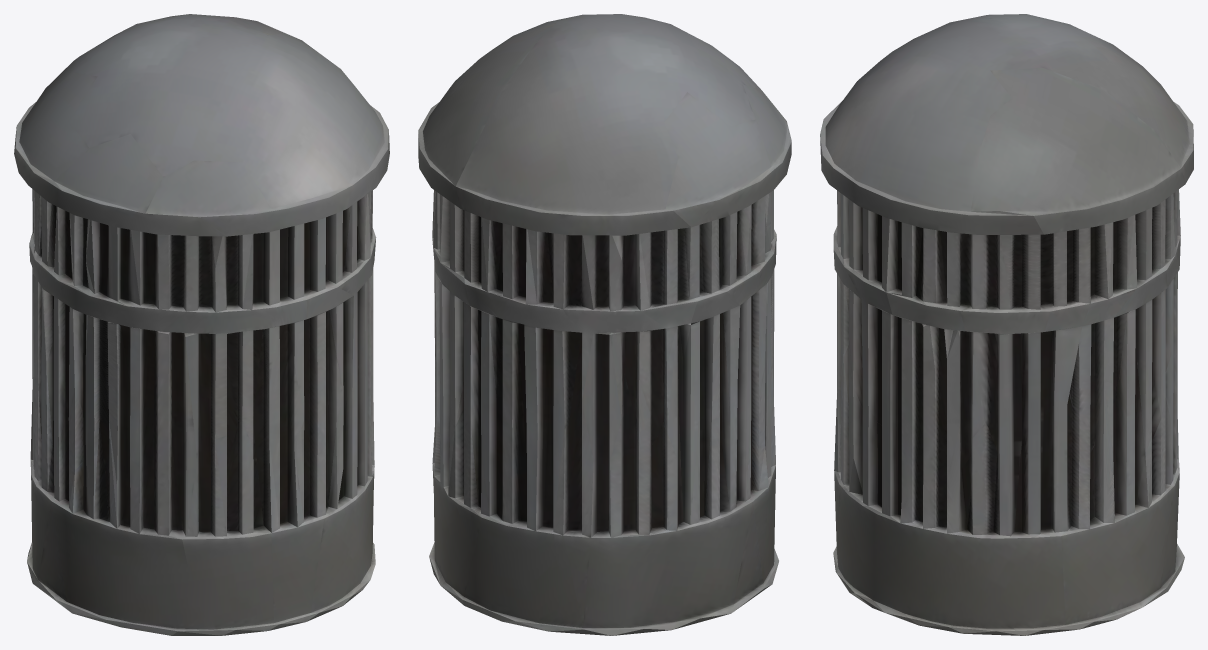
The model's file is fw_prop_litterbin_a.glb.
3 views of the same model, side by side, from view 1: azimuth 30°, elevation 25°; view 2: azimuth 150°, elevation 25°; view 3: azimuth 270°, elevation 25° (orthographic).
Parts seen in each view (by area): view 1: model; view 2: model; view 3: model.
Part boxes in pixels (x1,y1,x2,y2): model: (14,14,389,635); model: (418,14,791,635); model: (820,14,1193,635).
Bounding box in the file's own units: 0.6362 × 1 × 0.6396.
1 material, 1 textured.
